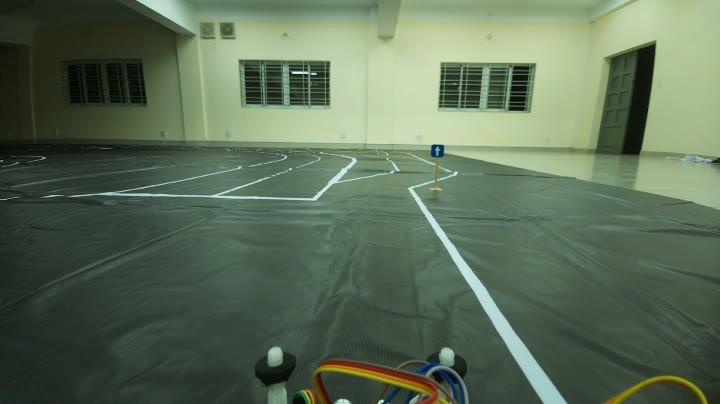onewayroad: (430, 143, 445, 160)
